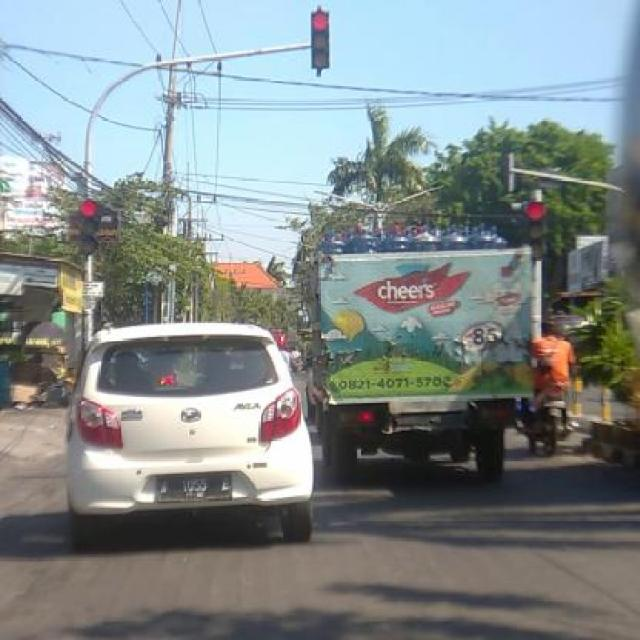traffic light: (77, 202, 100, 257), (313, 14, 330, 77), (520, 202, 543, 246)
